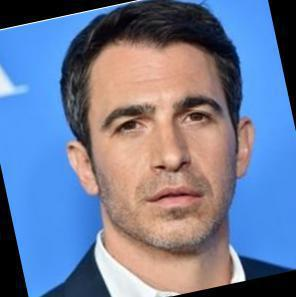Sober: (98, 43, 238, 246)
